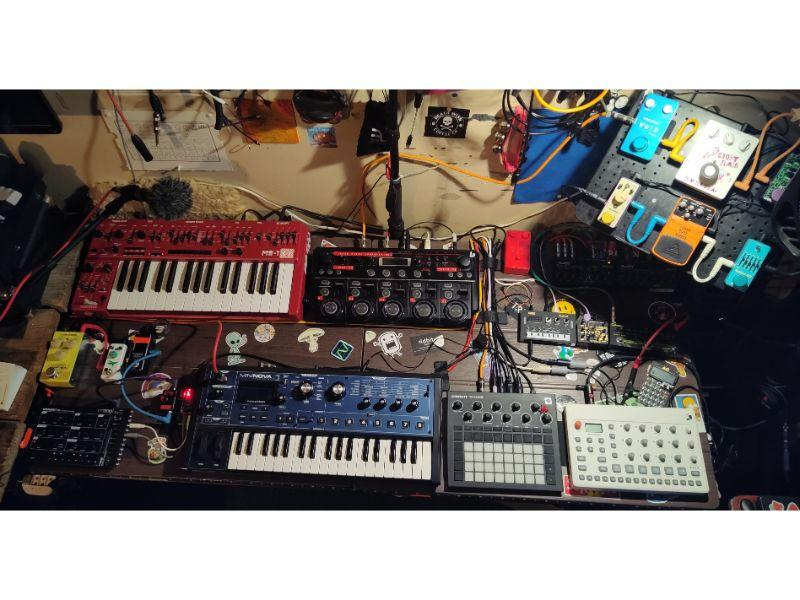synthesizer: (197, 358, 439, 480), (69, 216, 308, 316)
